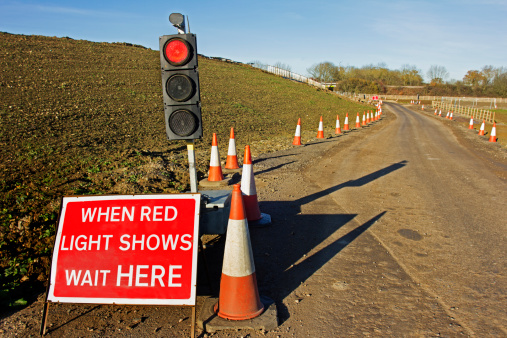trafficcone: (197, 184, 277, 332), (240, 146, 272, 227), (198, 133, 230, 186), (223, 128, 242, 173), (290, 118, 305, 147), (313, 116, 327, 141), (486, 121, 500, 142), (332, 115, 345, 136), (342, 112, 352, 132), (477, 120, 488, 138), (353, 113, 363, 130), (467, 115, 476, 131), (361, 111, 369, 127)
